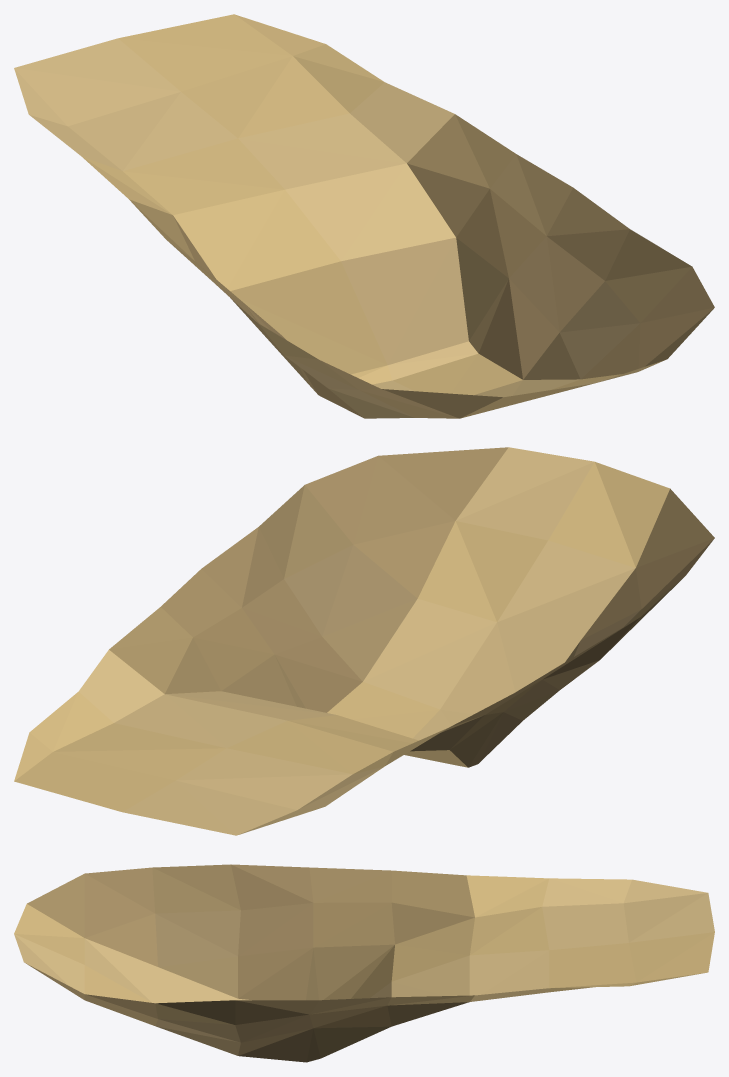
The model's file is dhil.obj.
3 renders of one model, top to bottom at view 1: azimuth 30°, elevation 25°; view 2: azimuth 150°, elevation 25°; view 3: azimuth 270°, elevation 25°, orthographic. The views are drawn at different scales.
Size of the model in its own units: 2300 by 810 by 4909.
